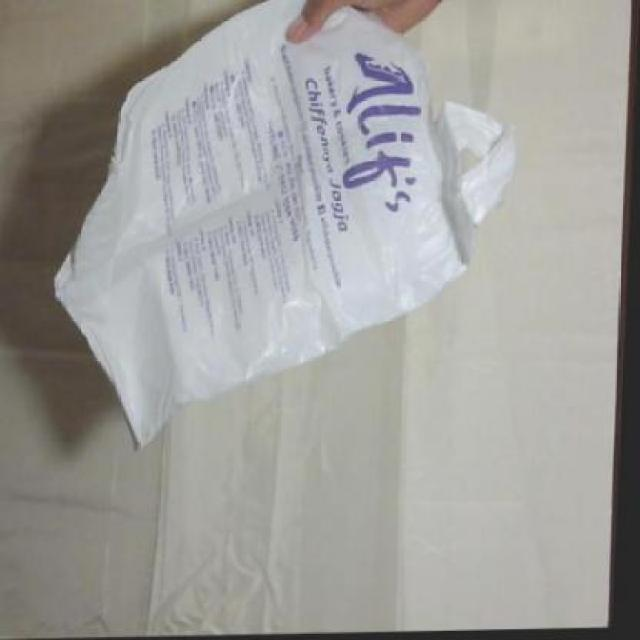Plastic: (47, 1, 519, 459)
